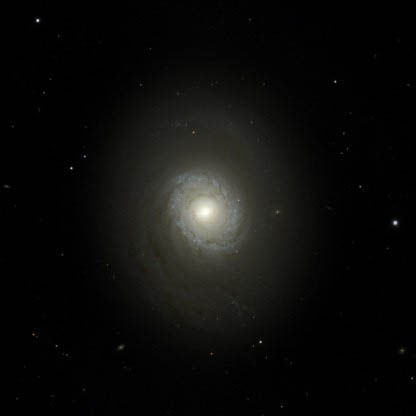Messier 94: (102, 78, 318, 355)
